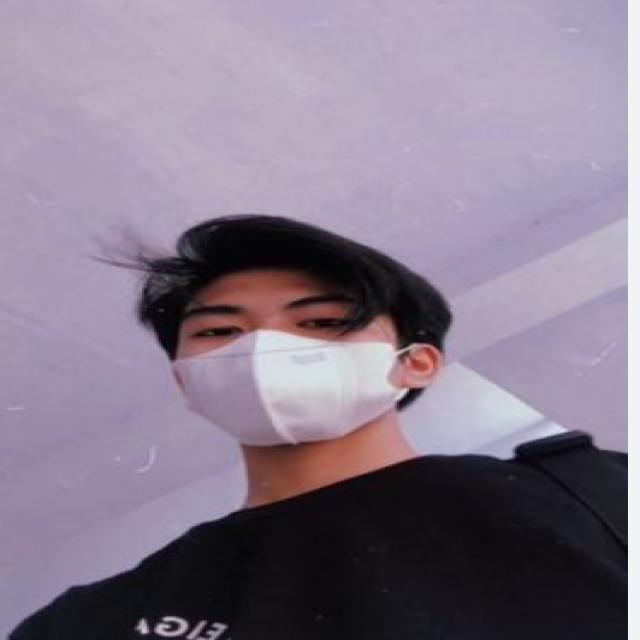face_mask: (159, 265, 447, 426)
